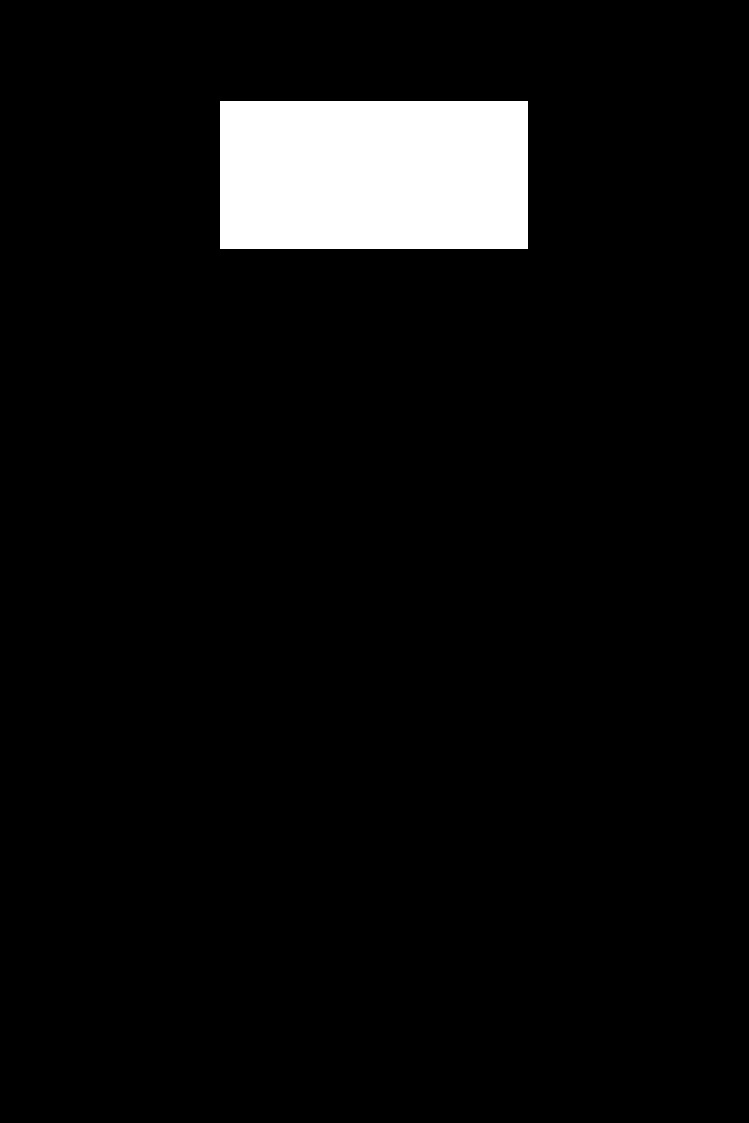table: (220, 101, 527, 248)
